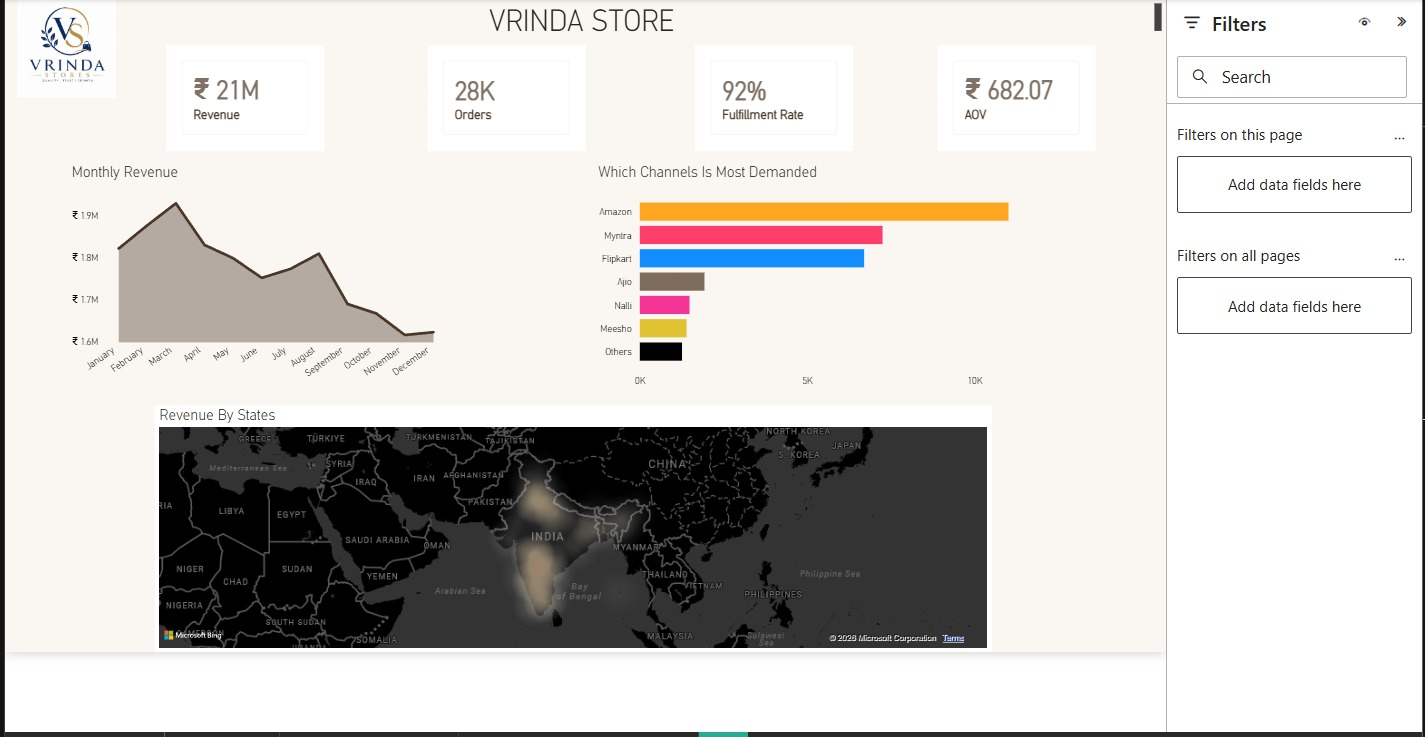

Layout of this report page (visuals, bound fields, positions):
{"tool":"powerbi","page":{"name":"Overview","canvas":[1280,720],"ordinal":0},"visuals":[{"type":"textbox","box":[0,0,1280.3,50.8],"z":0},{"type":"cardVisual","fields":{"Data":["Sum(Vrinda Store.Amount)"]},"box":[178.4,50.8,174.3,116.6],"z":1000},{"type":"cardVisual","fields":{"Data":["Vrinda Store.Average Order Value"]},"box":[1027.8,50.8,174.3,116.6],"z":2000},{"type":"cardVisual","fields":{"Data":["Vrinda Store.Fulfillment Rate"]},"box":[760.2,50.8,174.3,116.6],"z":3000},{"type":"cardVisual","fields":{"Data":["Count(Vrinda Store.Order ID)"]},"box":[465.2,50.8,174.3,116.6],"z":4000},{"type":"lineChart","title":"Monthly Revenue","fields":{"Y":["Sum(Vrinda Store.Amount)"],"Category":["Vrinda Store.Month"]},"box":[68.6,181.1,421.3,255.2],"z":5000},{"type":"clusteredBarChart","title":"Which Channels Is Most Demanded","fields":{"Category":["Vrinda Store.Channel "],"Y":["CountNonNull(Vrinda Store.Order ID)"]},"box":[649.1,181.1,507.7,255.2],"z":6000},{"type":"image","box":[0,0,135.8,108.4],"z":7000},{"type":"map","title":"Revenue By States","fields":{"Category":["Vrinda Store.ship-state"],"Size":["Sum(Vrinda Store.Amount)"]},"box":[166,447.3,922.1,273.1],"z":8000}]}

Visuals, with their boxes on the page's 1280x720 design canvas (x1, y1, x2, y2). These are canvas units, not pixel positions in the 1425x737 screenshot, which may show the page scaled, cropped or inside an application window:
textbox: [x1=0, y1=0, x2=1280, y2=51]
cardVisual - Sum(Vrinda Store.Amount): [x1=178, y1=51, x2=353, y2=167]
cardVisual - Vrinda Store.Average Order Value: [x1=1028, y1=51, x2=1202, y2=167]
cardVisual - Vrinda Store.Fulfillment Rate: [x1=760, y1=51, x2=934, y2=167]
cardVisual - Count(Vrinda Store.Order ID): [x1=465, y1=51, x2=640, y2=167]
"Monthly Revenue" lineChart: [x1=69, y1=181, x2=490, y2=436]
"Which Channels Is Most Demanded" clusteredBarChart: [x1=649, y1=181, x2=1157, y2=436]
image: [x1=0, y1=0, x2=136, y2=108]
"Revenue By States" map: [x1=166, y1=447, x2=1088, y2=720]
